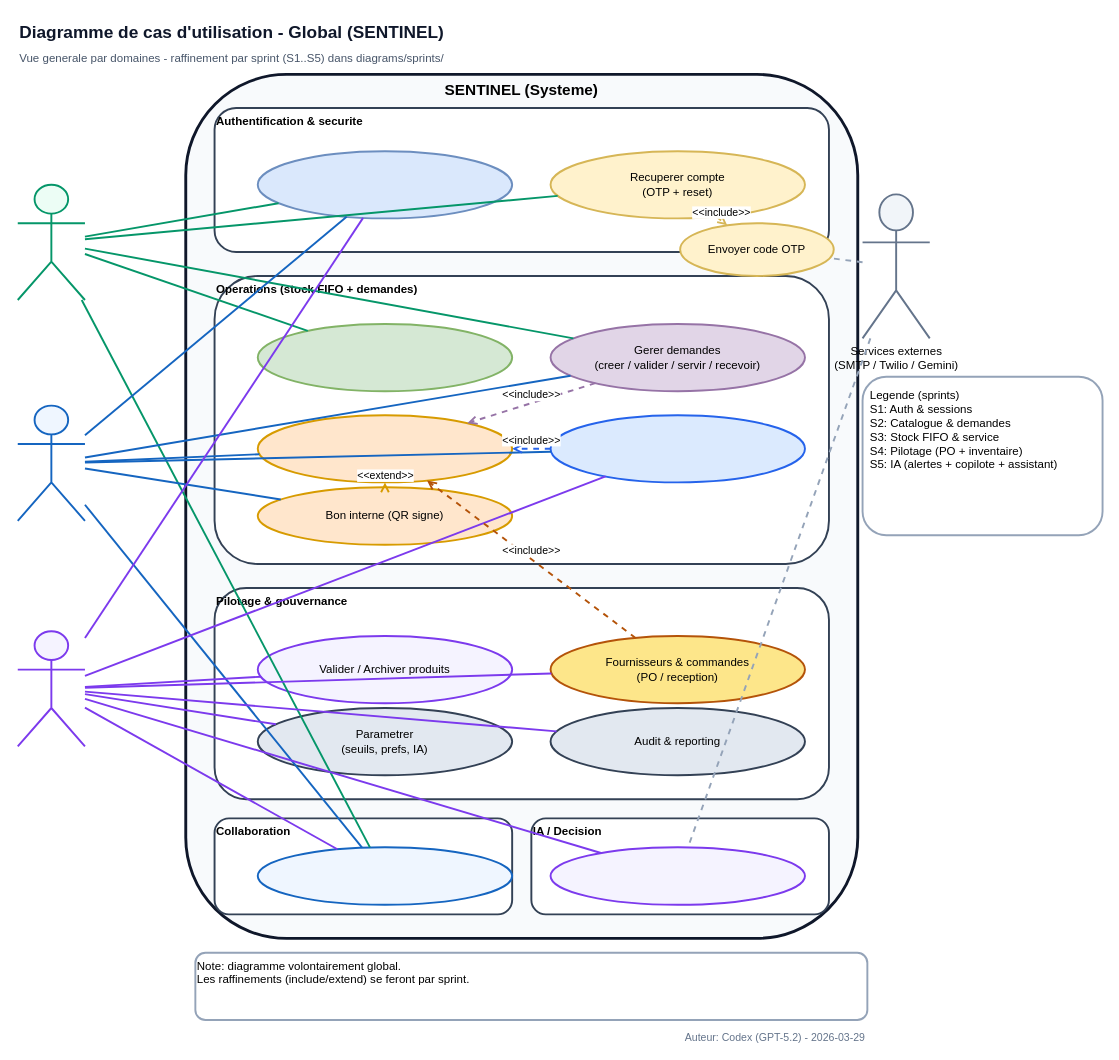
The diagram is 1119 pixels wide and 1060 high, and some of its shapes have lost their labels. The shapes that lost their labels are listed below. From the top down, each one's centre as x and y in pixels, then its label:
At point (384, 184): "S authentifier (login / refresh / logout)".
At point (50, 241): "Demandeur".
At point (384, 357): "Consulter catalogue (produits approuves)".
At point (50, 462): "Magasinier".
At point (384, 448): "Gerer stock FIFO (entrees / sorties / lots / QR)".
At point (677, 448): "Inventaire (compter / appliquer)".
At point (50, 688): "Responsable".
At point (384, 875): "Chat (direct + threads)".
At point (677, 875): "Assistant IA & Copilote (alertes / reco / mini-rapports / traces)".
